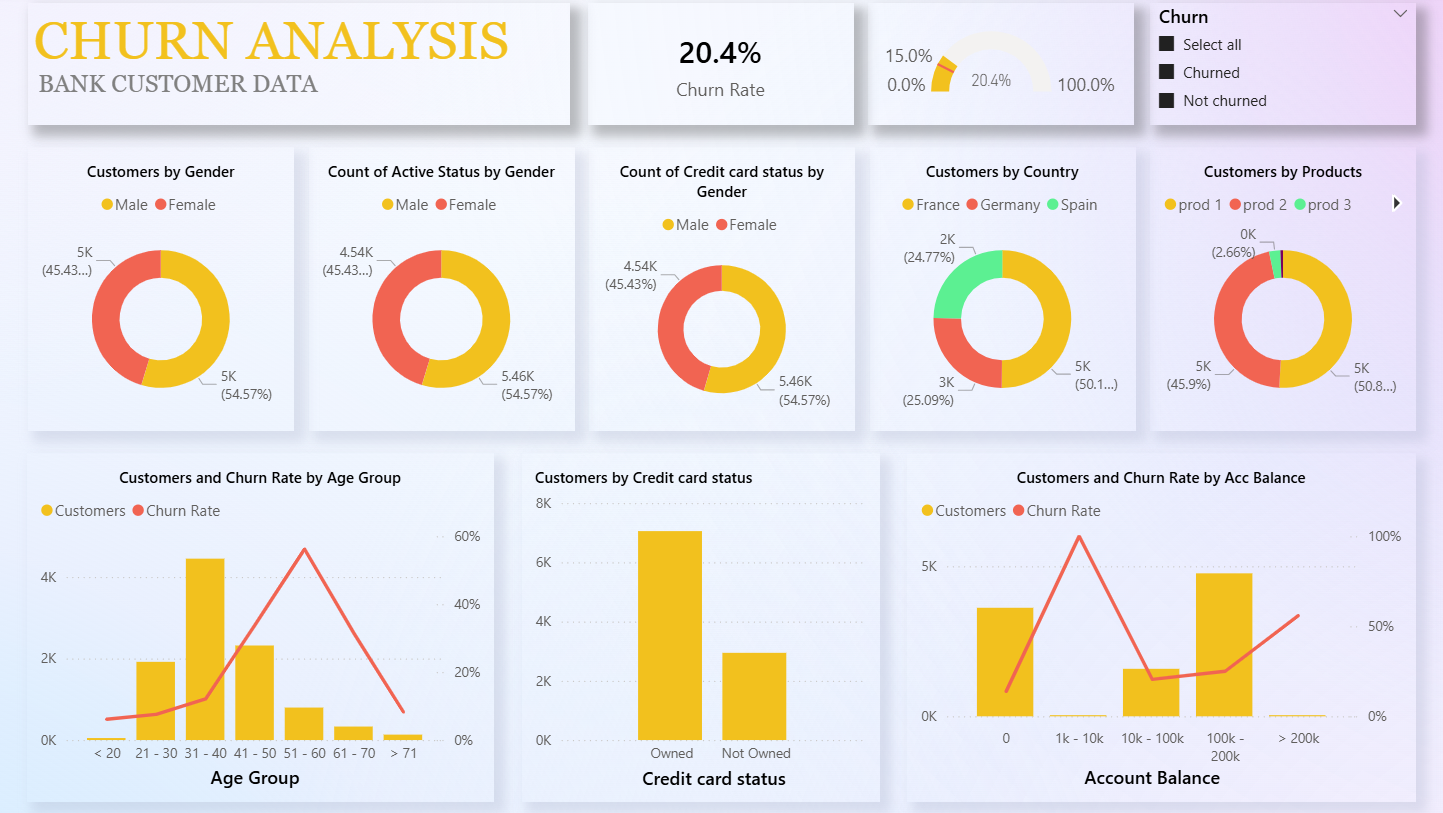

The dashboard page shown, as its layout file describes it:
{"tool":"powerbi","page":{"name":"Page 1","canvas":[1280,720],"ordinal":0},"visuals":[{"type":"donutChart","fields":{"Category":["Customer Data.Gender"],"Y":["Customer Data.Customers"]},"box":[26.3,130.1,235,251.4],"z":0},{"type":"card","fields":{"Values":["Customer Data.Churn Rate"]},"box":[521.7,2.9,235.3,108.1],"z":1000},{"type":"donutChart","fields":{"Category":["Customer Data.Gender"],"Y":["CountNonNull(Customer Data.Active Status)"]},"box":[274.4,130.2,235,251.4],"z":2000},{"type":"donutChart","fields":{"Category":["Customer Data.Gender"],"Y":["CountNonNull(Customer Data.Credit card status)"]},"box":[522.5,130.2,235,251.4],"z":3000},{"type":"donutChart","fields":{"Category":["Customer Data.Country"],"Y":["Customer Data.Customers"]},"box":[770.6,130.2,235,251.4],"z":4000},{"type":"lineStackedColumnComboChart","fields":{"Category":["Age Groups.Age Group"],"Y":["Customer Data.Customers"],"Y2":["Customer Data.Churn Rate"]},"box":[25.7,401.3,413.4,308.9],"z":5000},{"type":"donutChart","fields":{"Y":["Customer Data.Customers"],"Category":["Customer Data.Products"]},"box":[1018.6,130.1,235.3,251.4],"z":6000},{"type":"lineStackedColumnComboChart","fields":{"Y":["Customer Data.Customers"],"Category":["Customer Data.Credit card status"]},"box":[463.3,401.3,316.5,308.9],"z":7000},{"type":"lineStackedColumnComboChart","fields":{"Y":["Customer Data.Customers"],"Y2":["Customer Data.Churn Rate"],"Category":["Acc balance Group.Acc Balance"]},"box":[804,401.3,449.7,308.9],"z":8000},{"type":"slicer","fields":{"Values":["Customer Data.Churn"]},"box":[1018.6,2.9,235.3,108.1],"z":9000},{"type":"gauge","fields":{"Y":["Customer Data.Churn Rate"],"MinValue":["Min(Customer Data.Min Churn Rate)"],"MaxValue":["Max(Customer Data.Max Churn Rate)"],"TargetValue":["Max(Customer Data.Target churn Rate)"]},"box":[770.2,2.9,235.3,108.1],"z":10000},{"type":"shape","box":[26.3,2.9,479.4,108.1],"z":11000},{"type":"textbox","box":[26.3,3.3,479.4,69.5],"z":12000,"group":"g1"},{"type":"textbox","box":[30.7,57.7,310.3,36.2],"z":13000,"group":"g1"},{"type":"group","id":"g1","title":"Group 1","box":[26.3,3.3,479.4,90.6],"z":13001}]}

Visuals, with their boxes in screenshot pixels (x1, y1, x2, y2), scaled from the page's 1280x720 canvas onto the 1443x813 screenshot:
donutChart - Customer Data.Gender x Customer Data.Customers: select_region(30, 147, 295, 431)
card - Customer Data.Churn Rate: select_region(588, 3, 853, 125)
donutChart - Customer Data.Gender x CountNonNull(Customer Data.Active Status): select_region(309, 147, 574, 431)
donutChart - Customer Data.Gender x CountNonNull(Customer Data.Credit card status): select_region(589, 147, 854, 431)
donutChart - Customer Data.Country x Customer Data.Customers: select_region(869, 147, 1134, 431)
lineStackedColumnComboChart - Age Groups.Age Group x Customer Data.Customers: select_region(29, 453, 495, 802)
donutChart - Customer Data.Customers x Customer Data.Products: select_region(1148, 147, 1414, 431)
lineStackedColumnComboChart - Customer Data.Customers x Customer Data.Credit card status: select_region(522, 453, 879, 802)
lineStackedColumnComboChart - Customer Data.Customers x Customer Data.Churn Rate: select_region(906, 453, 1413, 802)
slicer - Customer Data.Churn: select_region(1148, 3, 1414, 125)
gauge - Customer Data.Churn Rate x Min(Customer Data.Min Churn Rate): select_region(868, 3, 1134, 125)
shape: select_region(30, 3, 570, 125)
textbox: select_region(30, 4, 570, 82)
textbox: select_region(35, 65, 384, 106)
"Group 1" group: select_region(30, 4, 570, 106)
